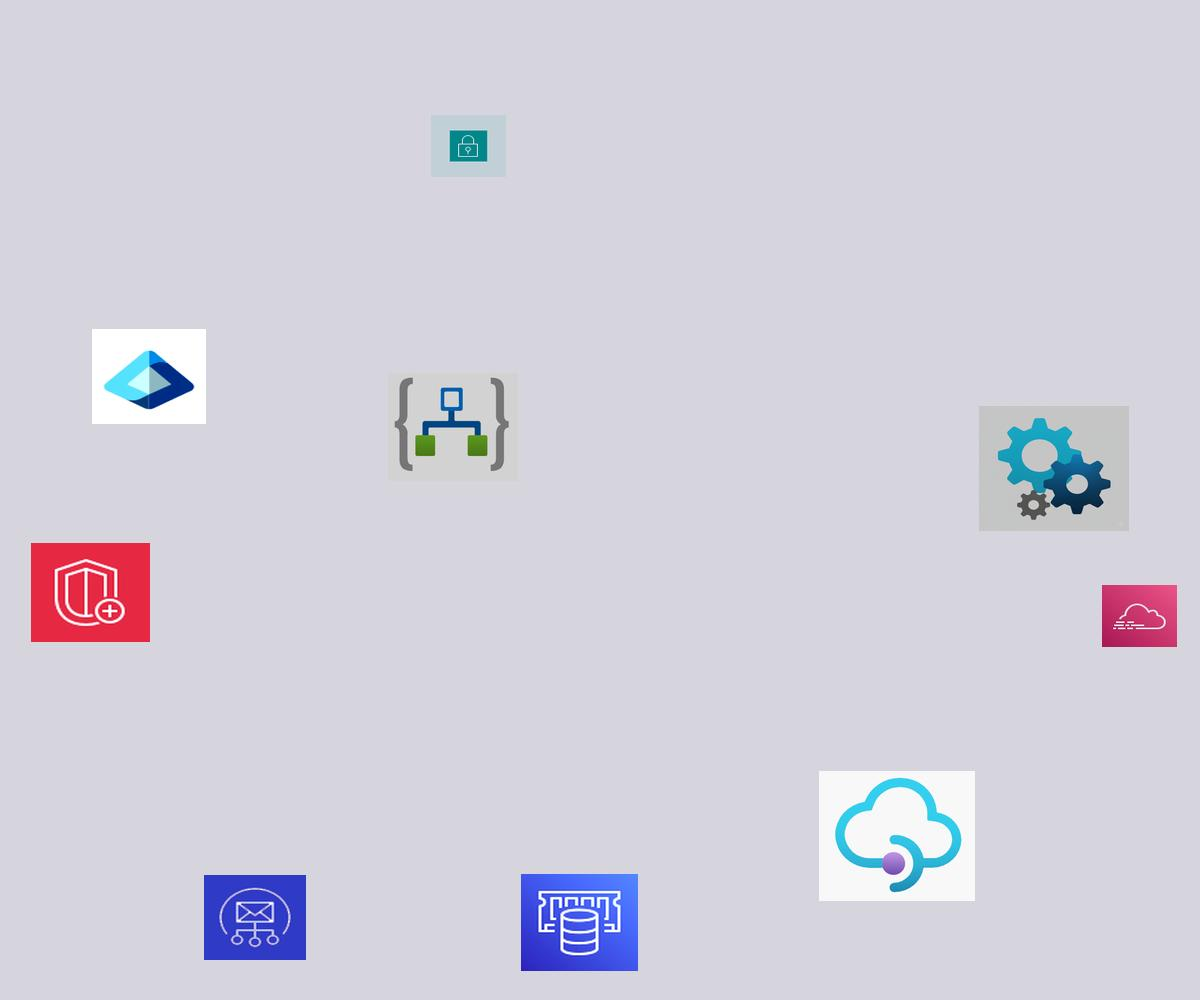AWS-CloudTrail: (1102, 585, 1177, 647)
AWS-ElastiCache: (521, 874, 638, 971)
AWS-Private-subnet: (431, 115, 506, 177)
AWS-Shield: (31, 543, 150, 642)
AWS-Simple-Email-Service: (204, 875, 306, 960)
Azure_api: (979, 406, 1129, 531)
Azure_api_gateway: (819, 771, 975, 901)
Azure_integration-204-Logic-Apps: (388, 373, 518, 481)
Azure_microsoft_entra: (92, 329, 206, 424)
